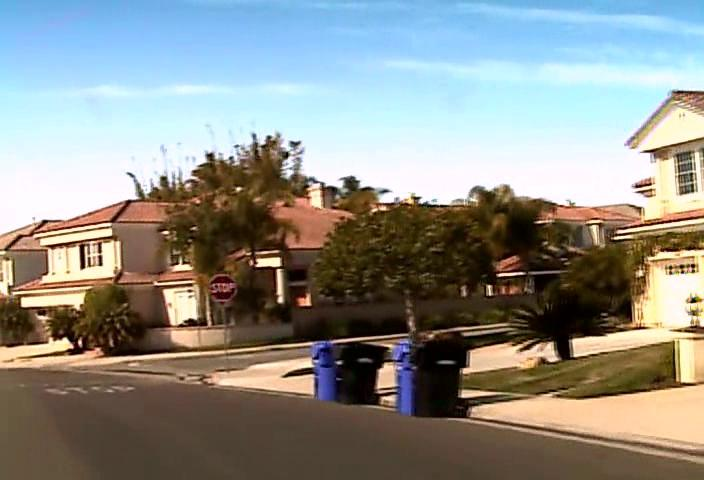stop: (206, 273, 237, 303)
